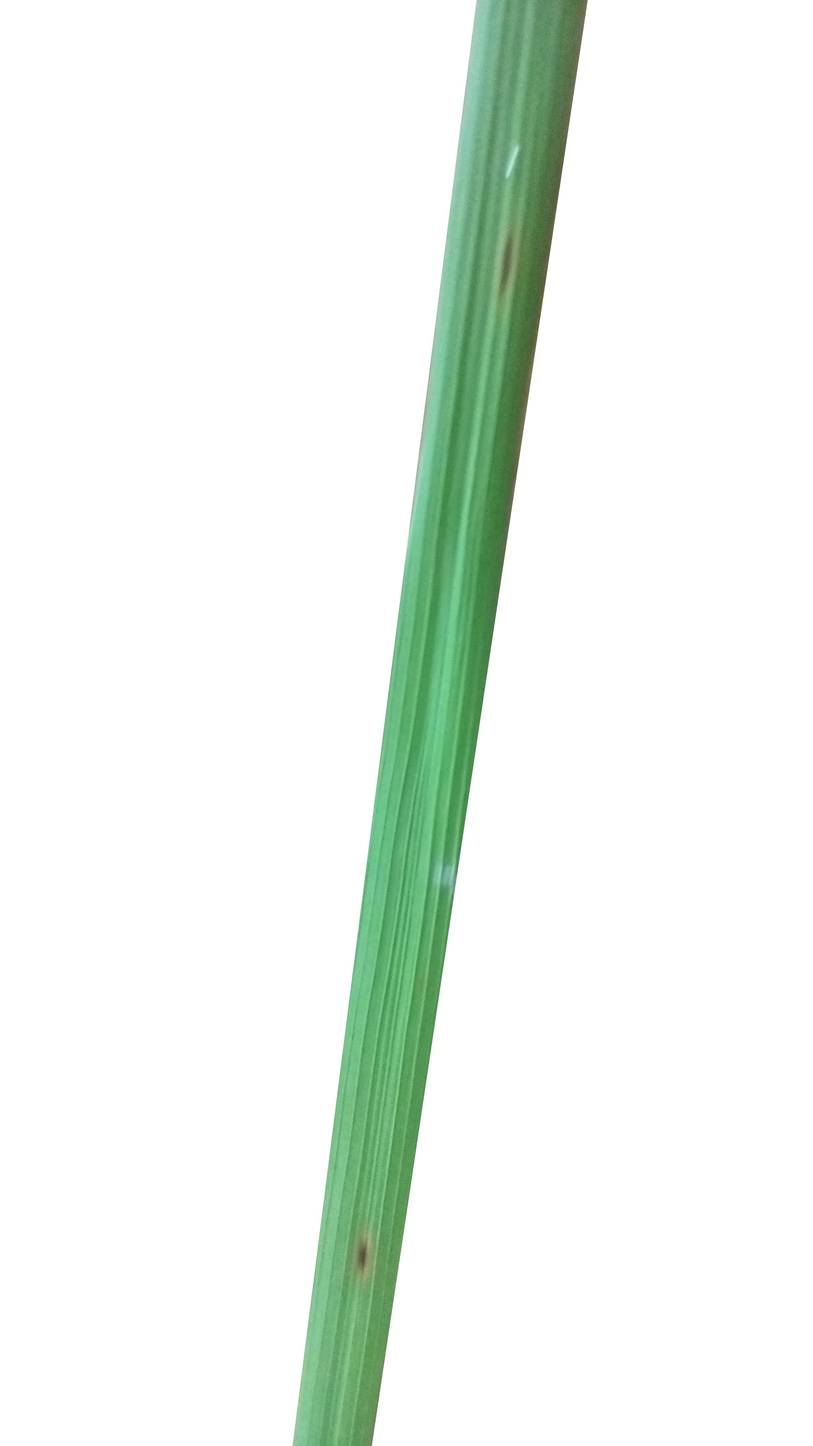Brown spot: (473, 205, 542, 330)
